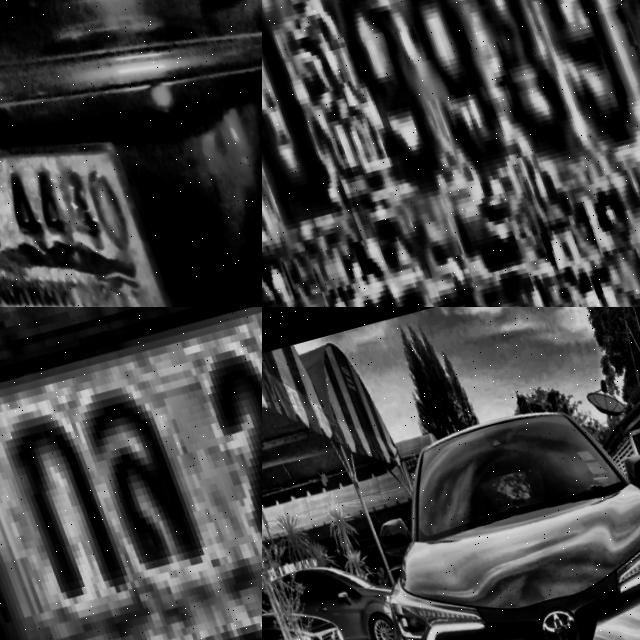license-plate: (262, 0, 640, 307), (0, 307, 262, 640), (0, 150, 157, 307)
